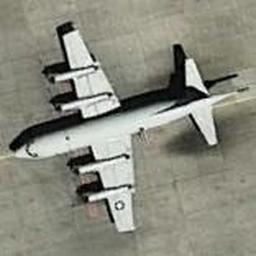Airplane: (7, 20, 251, 232)
